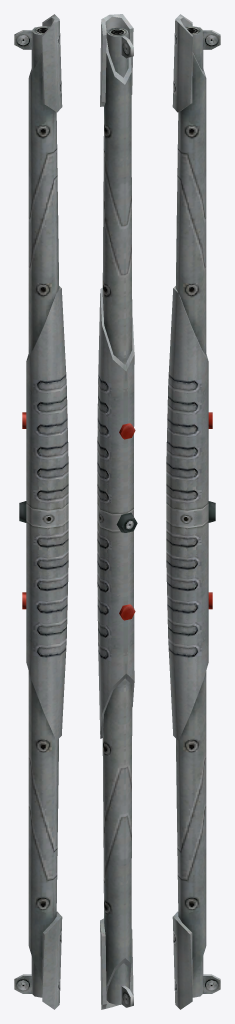
Rendered from wp_mle_lance_lightsaber_s02_l0.fbx.
3 views of the same model, side by side, from view 1: azimuth 90°, elevation 25°; view 2: azimuth 210°, elevation 25°; view 3: azimuth 270°, elevation 25° (orthographic).
Parts seen in each view (by area): view 1: mesh_node; view 2: mesh_node; view 3: mesh_node.
Part boxes in pixels (x1=…): mesh_node: x1=14, y1=14, x2=68, y2=1009; mesh_node: x1=97, y1=14, x2=137, y2=1009; mesh_node: x1=166, y1=14, x2=220, y2=1009.
Bounding box in the file's own units: 0.0267 × 0.8197 × 0.0409.
Materials: 1 (1 with a texture image).
